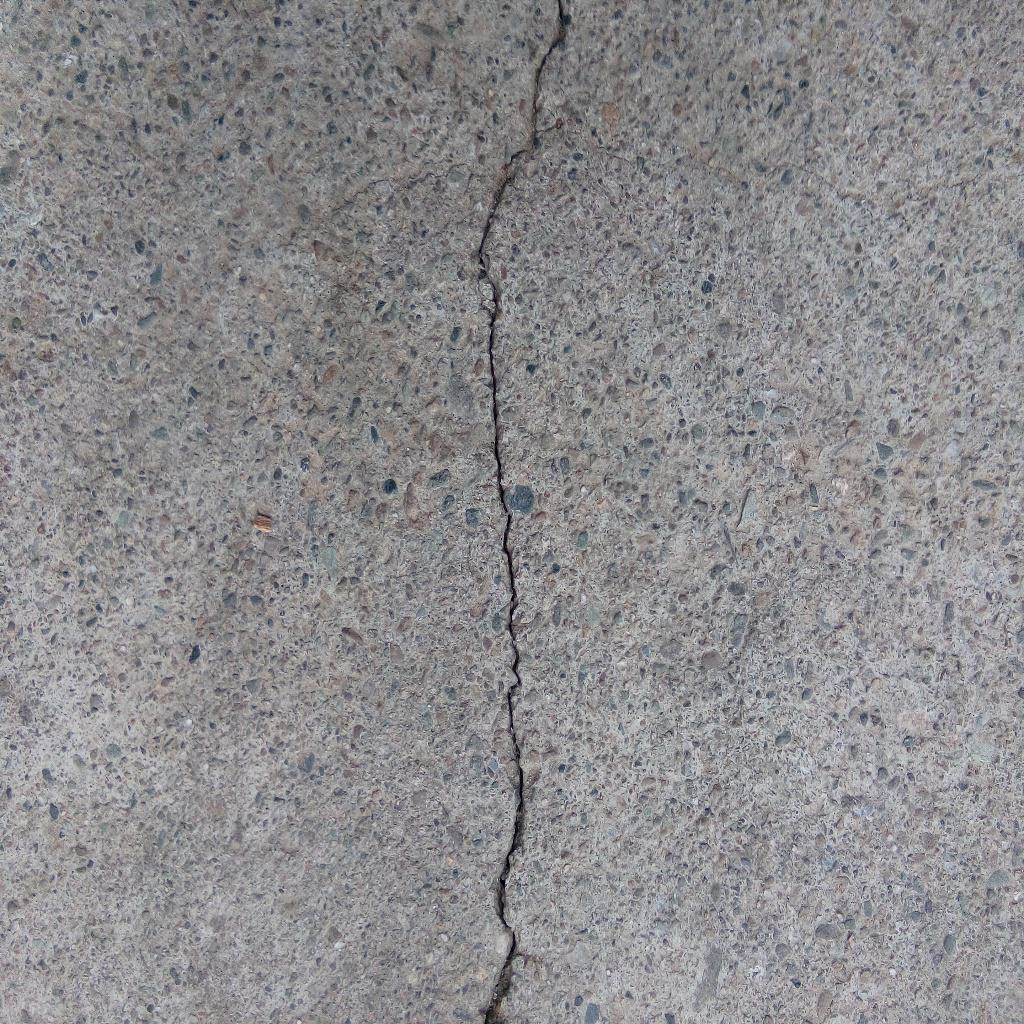Crack: (476, 1, 568, 1024)
